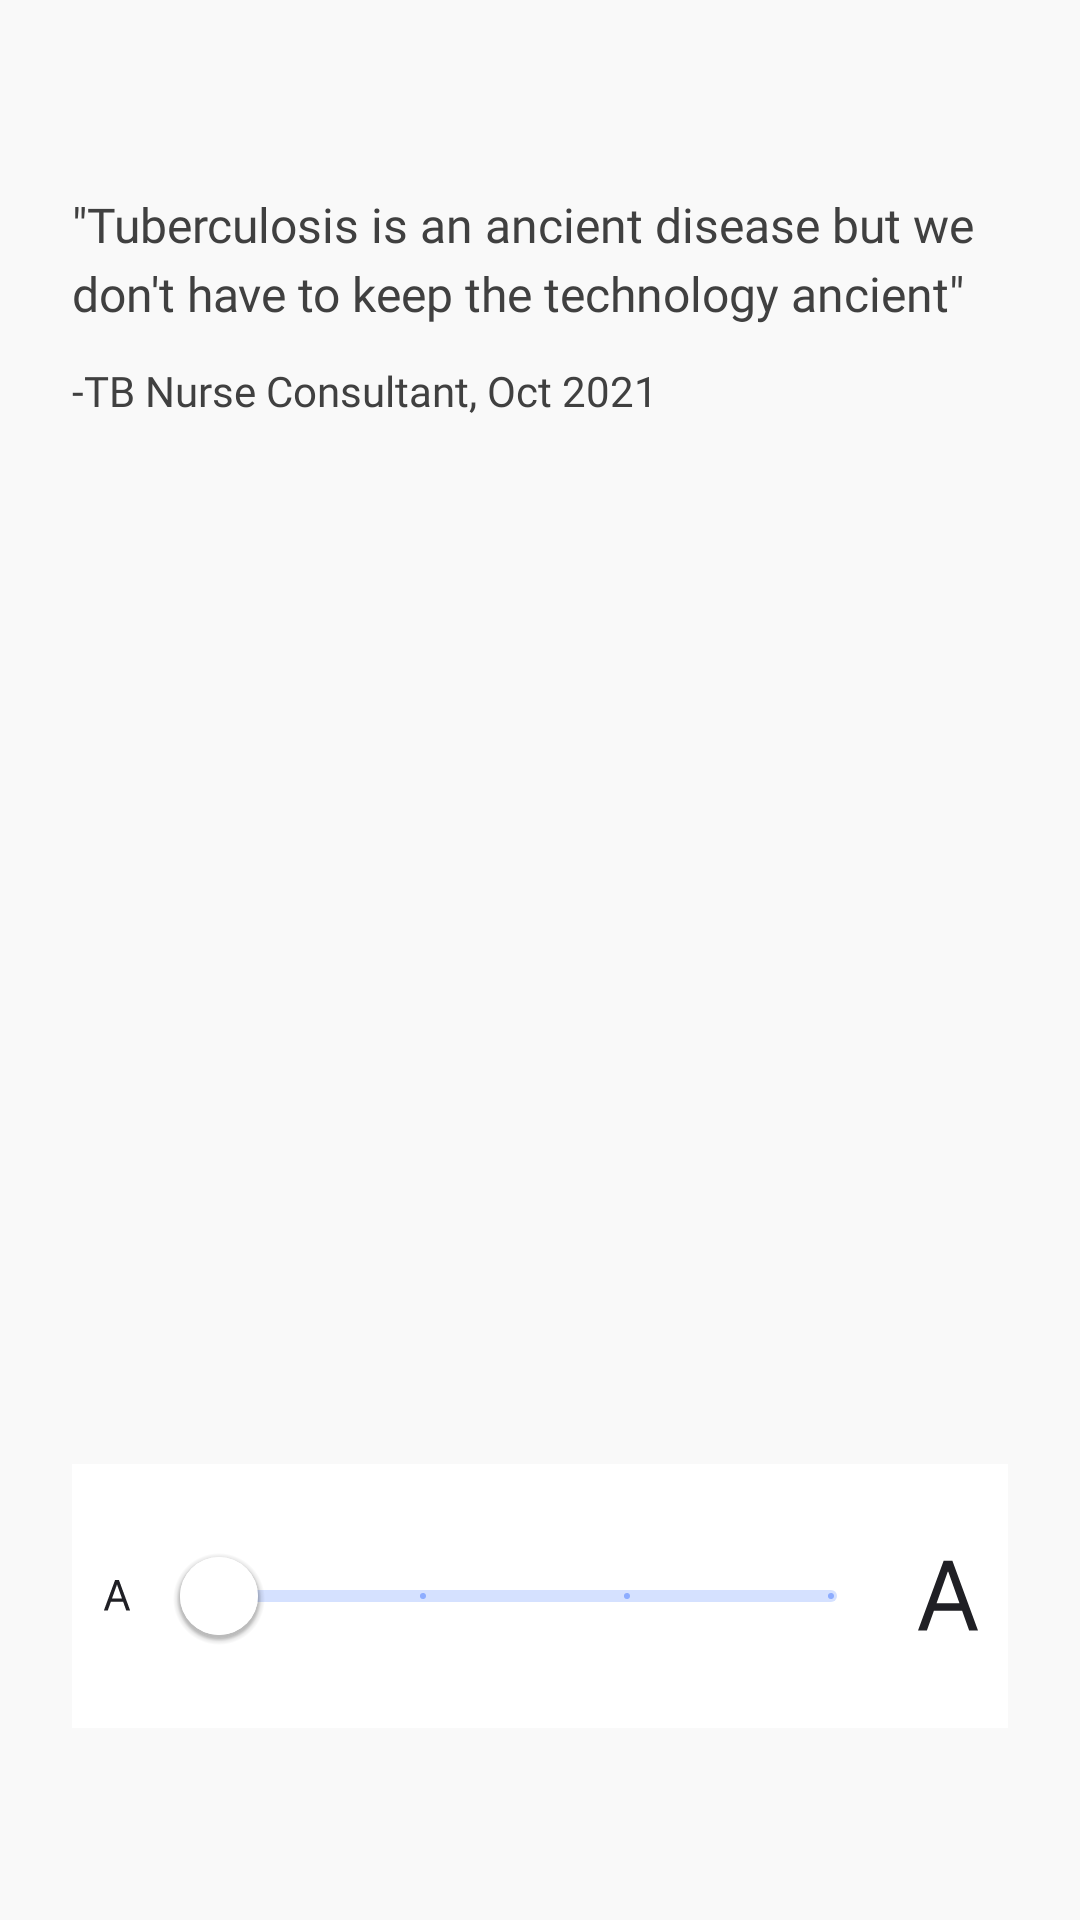

Icons on this 1080x1920 Android screen, each with the point to tap as (x,y):
Slider Large Font Icon: (948,1595)
Slider Small Font Icon: (117,1595)
